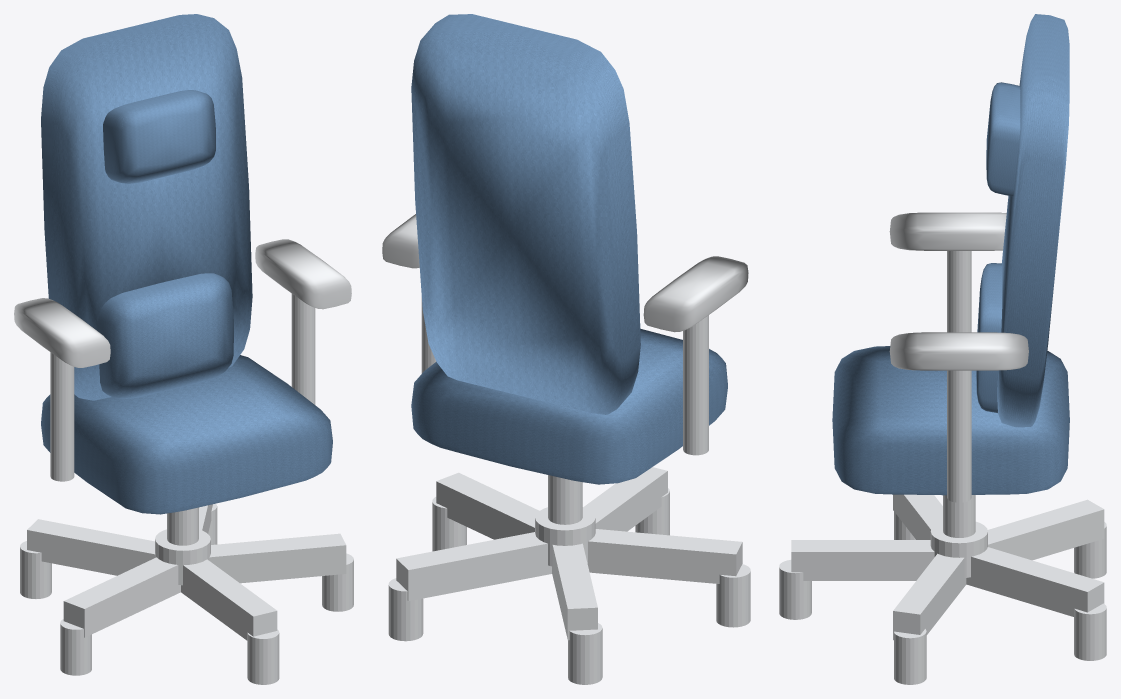
3 renders of one model, left to right at view 1: azimuth 30°, elevation 25°; view 2: azimuth 150°, elevation 25°; view 3: azimuth 270°, elevation 25°, orthographic. The views are drawn at different scales.
Visible parts, largest first — view 1: 2 backrest, 1 seat, 4 lumbar_pillow, 3 headrest, 12 base_spoke_2, 15 base_spoke_5, 14 base_spoke_4, 11 base_spoke_1, 7 armrest_pad_right, 5 armrest_pad_left, 6 armrest_post_left, 8 armrest_post_right (+6 smaller); view 2: 2 backrest, 1 seat, 13 base_spoke_3, 15 base_spoke_5, 5 armrest_pad_left, 12 base_spoke_2, 6 armrest_post_left, 11 base_spoke_1, 14 base_spoke_4, 19 wheel_4, 20 wheel_5, 18 wheel_3 (+5 smaller); view 3: 1 seat, 2 backrest, 11 base_spoke_1, 13 base_spoke_3, 7 armrest_pad_right, 14 base_spoke_4, 5 armrest_pad_left, 12 base_spoke_2, 3 headrest, 8 armrest_post_right, 4 lumbar_pillow, 6 armrest_post_left (+7 smaller).
Part boxes in pixels (box(x1,y1,x2,y2)): 2 backrest: box(41, 14, 252, 400); 1 seat: box(41, 355, 332, 514); 4 lumbar_pillow: box(98, 273, 233, 399); 3 headrest: box(103, 90, 215, 183); 12 base_spoke_2: box(209, 533, 346, 583); 15 base_spoke_5: box(63, 557, 180, 637); 14 base_spoke_4: box(27, 519, 155, 575); 11 base_spoke_1: box(181, 559, 277, 640); 7 armrest_pad_right: box(255, 239, 351, 309); 5 armrest_pad_left: box(14, 298, 110, 367); 6 armrest_post_left: box(50, 352, 74, 481); 8 armrest_post_right: box(291, 293, 315, 404); 2 backrest: box(411, 14, 640, 414); 1 seat: box(411, 328, 727, 484); 13 base_spoke_3: box(396, 532, 551, 601); 15 base_spoke_5: box(587, 529, 742, 583); 5 armrest_pad_left: box(643, 256, 748, 332); 12 base_spoke_2: box(436, 472, 539, 539); 6 armrest_post_left: box(683, 315, 708, 455); 11 base_spoke_1: box(583, 467, 667, 531); 14 base_spoke_4: box(552, 543, 597, 640); 19 wheel_4: box(568, 623, 602, 684); 20 wheel_5: box(716, 564, 750, 627); 18 wheel_3: box(388, 578, 423, 641); 1 seat: box(832, 346, 1069, 495); 2 backrest: box(997, 14, 1069, 427); 11 base_spoke_1: box(791, 540, 934, 580); 13 base_spoke_3: box(966, 547, 1104, 616); 7 armrest_pad_right: box(889, 332, 1028, 370); 14 base_spoke_4: box(987, 499, 1104, 560); 5 armrest_pad_left: box(889, 212, 1006, 250); 12 base_spoke_2: box(893, 553, 966, 640); 3 headrest: box(986, 82, 1020, 196); 8 armrest_post_right: box(947, 370, 971, 502); 4 lumbar_pillow: box(976, 263, 1002, 412); 6 armrest_post_left: box(947, 251, 971, 332).
Bounding box in the file's own units: 0.54 × 1 × 0.52.
Materials: 3 (1 with a texture image).
